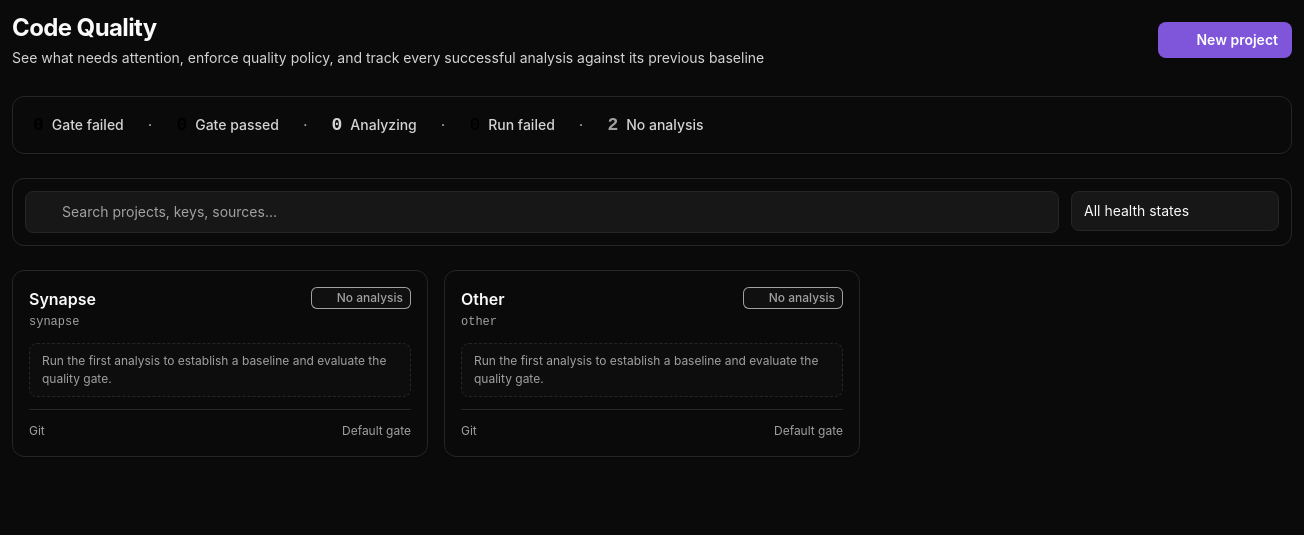
Scenario: Code Quality projects › filters projects by search
Expected: the heading "Synapse" is shown, [29, 287, 96, 311]
Type "missing" into the field labelled "Search projects" at (542,212), box [25, 191, 1059, 233]
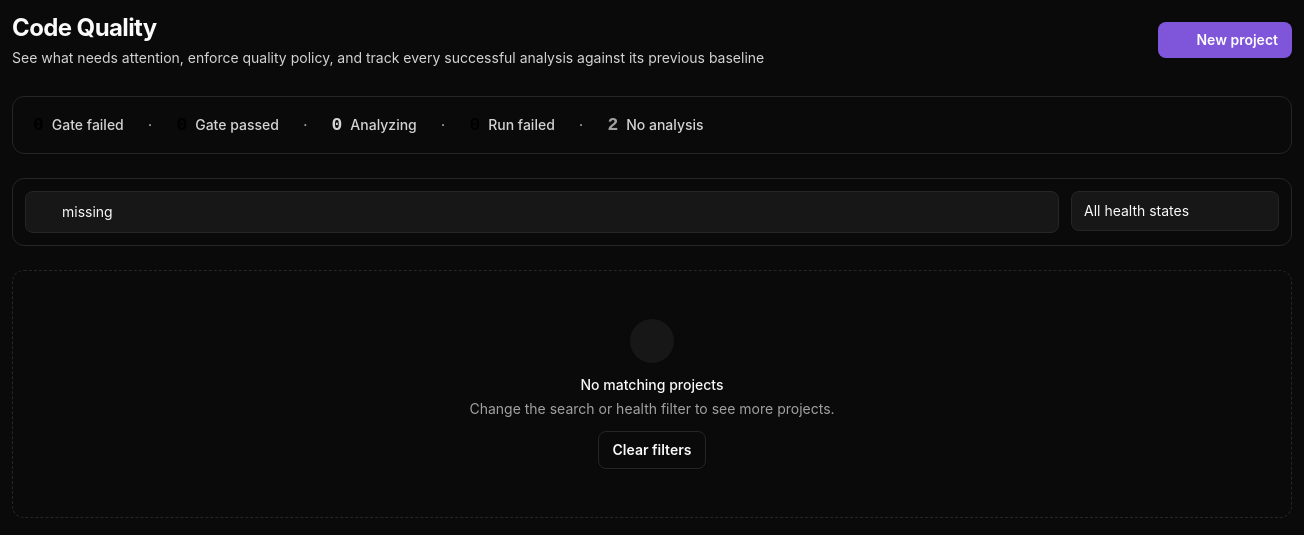
Result: the text "No matching projects" is shown at [580, 376, 723, 393]
Click the button "Clear filters" at (652,450), box [598, 431, 706, 469]
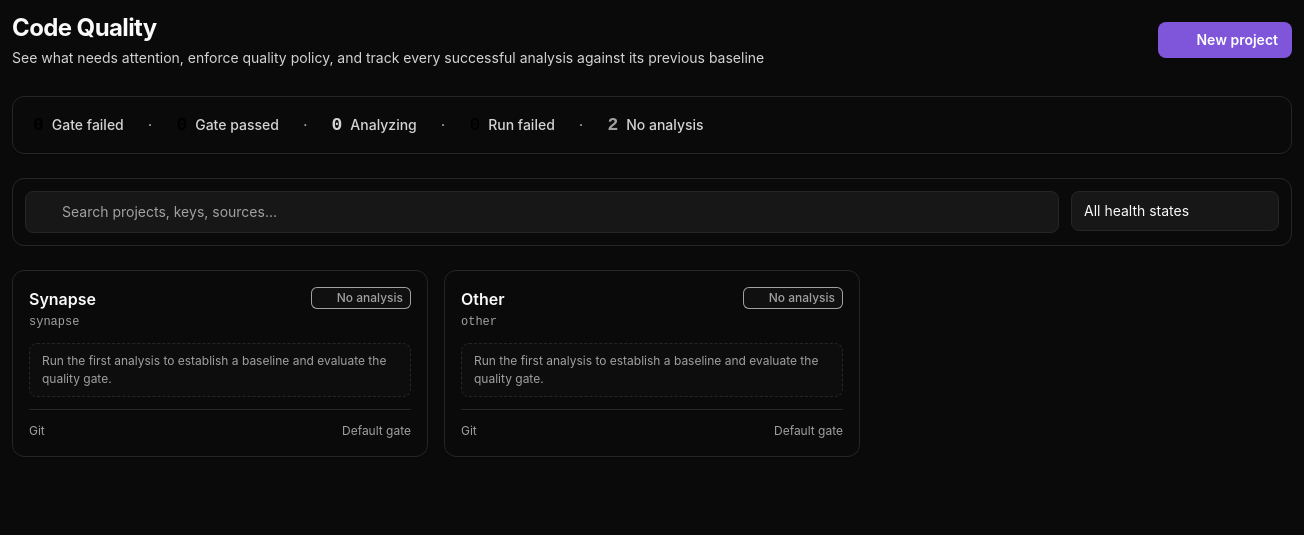
Result: the heading "Other" is shown at [461, 287, 505, 311]
